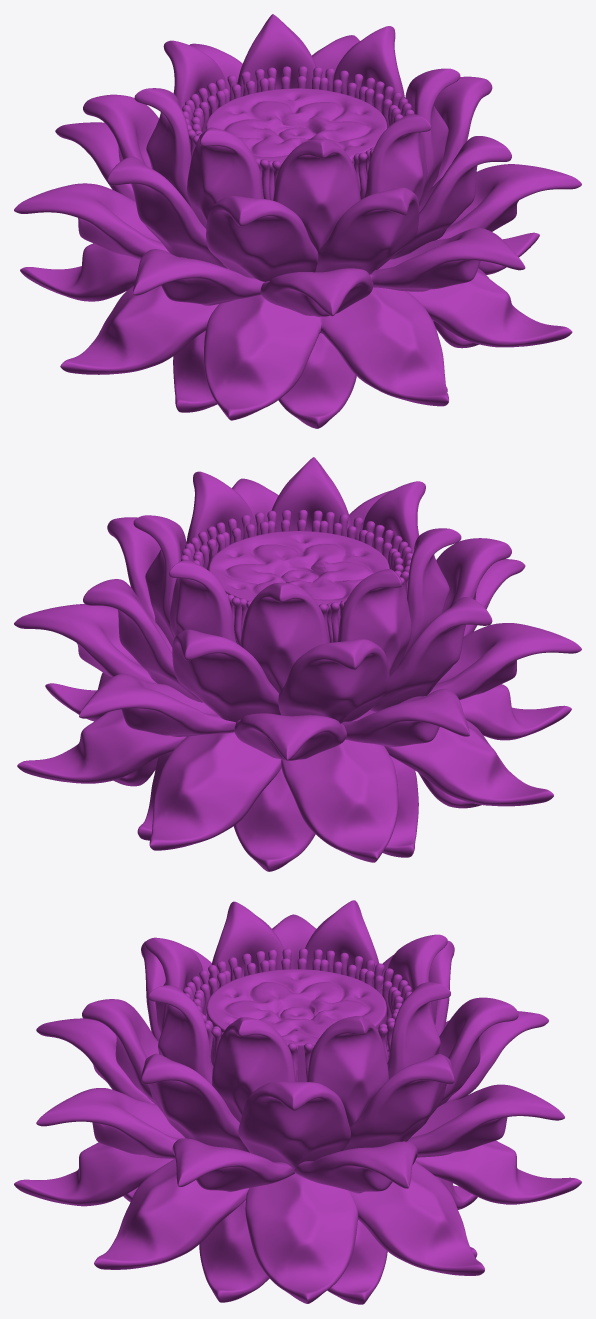
Rendered from lotus1.glb.
The picture shows the model from 3 angles, top to bottom: view 1: azimuth 30°, elevation 25°; view 2: azimuth 150°, elevation 25°; view 3: azimuth 270°, elevation 25°; orthographic projection.
Visible parts, largest first — view 1: Object_16, Object_30, Object_3, Object_6, Object_32, Object_7, Object_25, Object_13, Object_29, Object_22, Object_35, Object_23 (+12 smaller); view 2: Object_16, Object_15, Object_31, Object_6, Object_20, Object_32, Object_10, Object_25, Object_14, Object_26, Object_23, Object_35 (+16 smaller); view 3: Object_16, Object_12, Object_6, Object_3, Object_13, Object_14, Object_33, Object_25, Object_26, Object_8, Object_27, Object_15 (+12 smaller).
Boxes of the visible parts, bbox=[...] form: Object_16: bbox=[134, 14, 460, 251]; Object_30: bbox=[204, 287, 448, 420]; Object_3: bbox=[260, 227, 525, 316]; Object_6: bbox=[206, 88, 387, 183]; Object_32: bbox=[60, 285, 218, 374]; Object_7: bbox=[206, 196, 318, 281]; Object_25: bbox=[182, 66, 414, 200]; Object_13: bbox=[407, 268, 572, 347]; Object_29: bbox=[315, 187, 419, 274]; Object_22: bbox=[14, 183, 169, 259]; Object_35: bbox=[107, 156, 227, 268]; Object_23: bbox=[133, 249, 264, 305]; Object_16: bbox=[133, 471, 461, 693]; Object_15: bbox=[149, 732, 281, 850]; Object_31: bbox=[281, 739, 398, 862]; Object_6: bbox=[208, 531, 389, 643]; Object_20: bbox=[278, 639, 389, 723]; Object_32: bbox=[384, 720, 553, 806]; Object_10: bbox=[172, 629, 280, 722]; Object_25: bbox=[181, 509, 412, 645]; Object_14: bbox=[17, 709, 186, 783]; Object_26: bbox=[79, 673, 235, 736]; Object_23: bbox=[427, 623, 581, 699]; Object_35: bbox=[370, 597, 492, 711]; Object_16: bbox=[144, 900, 450, 1127]; Object_12: bbox=[245, 1173, 358, 1303]; Object_6: bbox=[206, 969, 386, 1081]; Object_3: bbox=[36, 1018, 184, 1158]; Object_13: bbox=[94, 1159, 249, 1269]; Object_14: bbox=[349, 1161, 484, 1275]; Object_33: bbox=[238, 1081, 350, 1168]; Object_25: bbox=[183, 948, 411, 1081]; Object_26: bbox=[407, 1084, 564, 1157]; Object_8: bbox=[343, 1054, 454, 1150]; Object_27: bbox=[141, 1053, 249, 1152]; Object_15: bbox=[415, 1140, 581, 1204].
Bounding box in the file's own units: 8.26 × 4.36 × 8.27.
